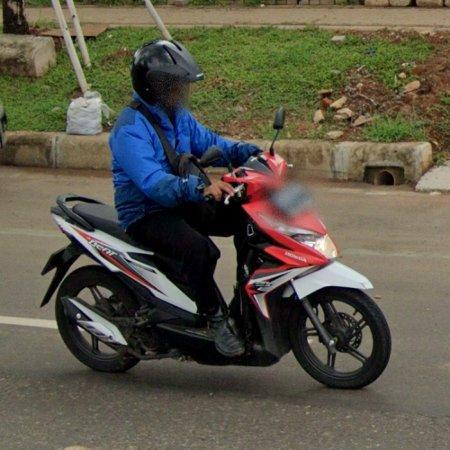motorcycles: (42, 109, 392, 390)
